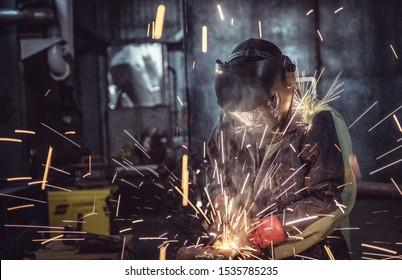gloves: (239, 214, 288, 250)
